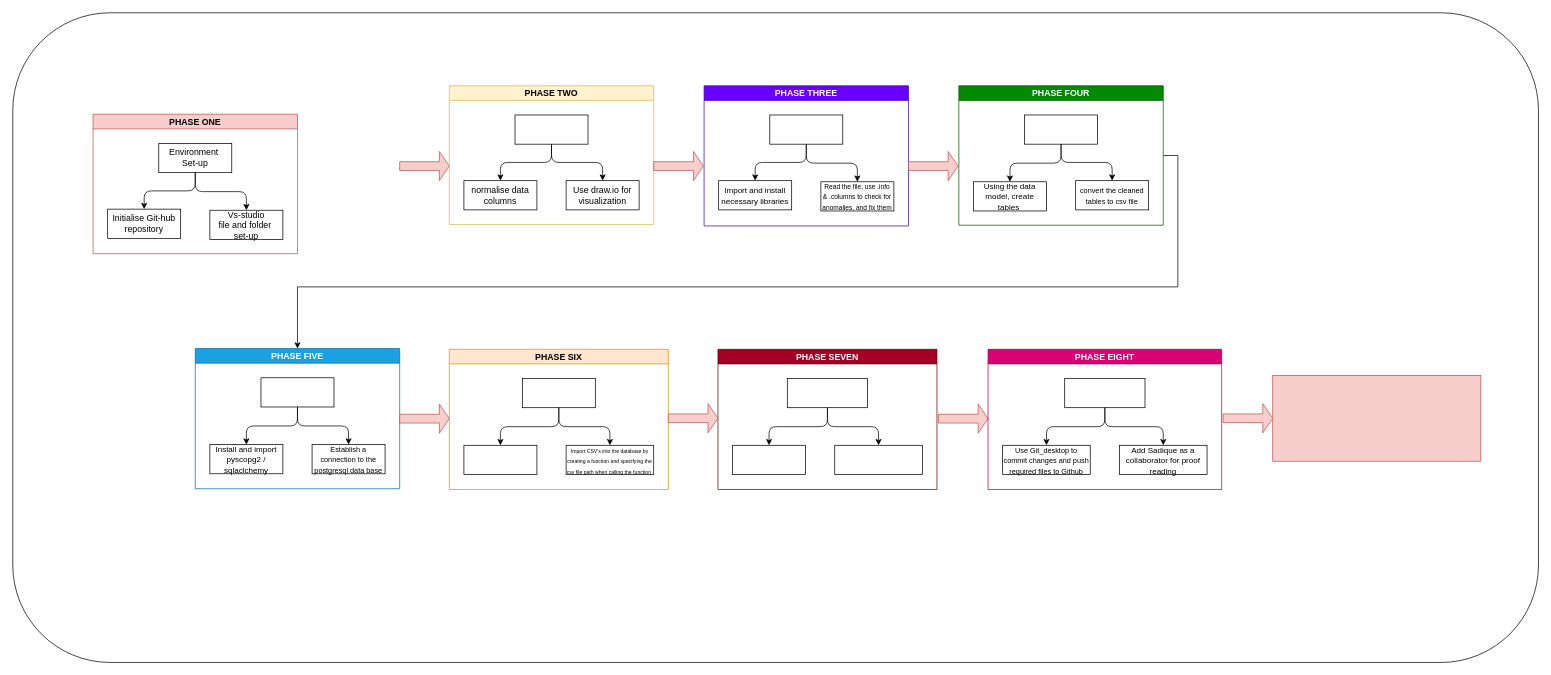
Image size: 1551x675. Some labels were removed from this diagram. Each missing label, with the centre of its shape:
Create a function to create table in pgadmin: point (500, 459)
Data Inspection: point (806, 129)
Data Loading I: point (297, 392)
Data Loading II: point (558, 393)
Data Modelling: point (551, 129)
Inspect ERD diagram as well as tables and values in pgadmin: point (769, 459)
Inspection/Querying the Database.: point (827, 393)
PROJECT COMPLETED!! MATERIALS: ETL FILE, ERD DIAGRAM, SQL-QUERY FILE.: point (1376, 418)
Pushing to Github/Submission: point (1104, 393)
Run the required queries for the project and inspect results for anomalies: point (878, 459)
TABLES CREATION: point (1061, 129)
